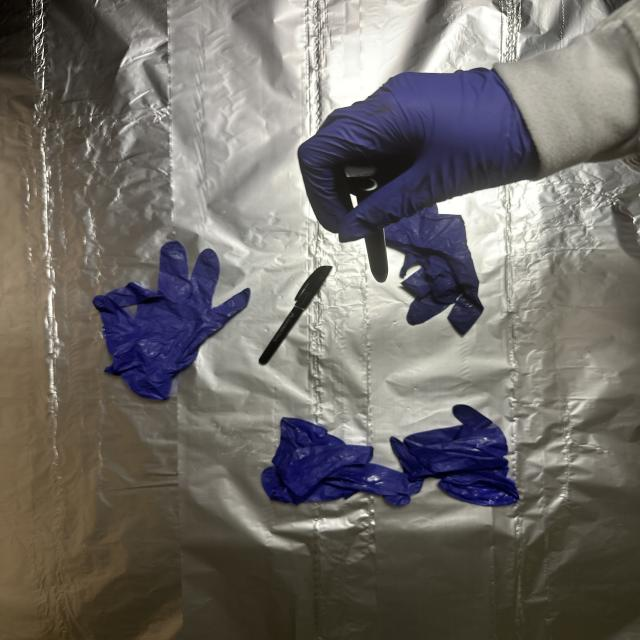gloves_contaminated: (298, 68, 538, 240)
